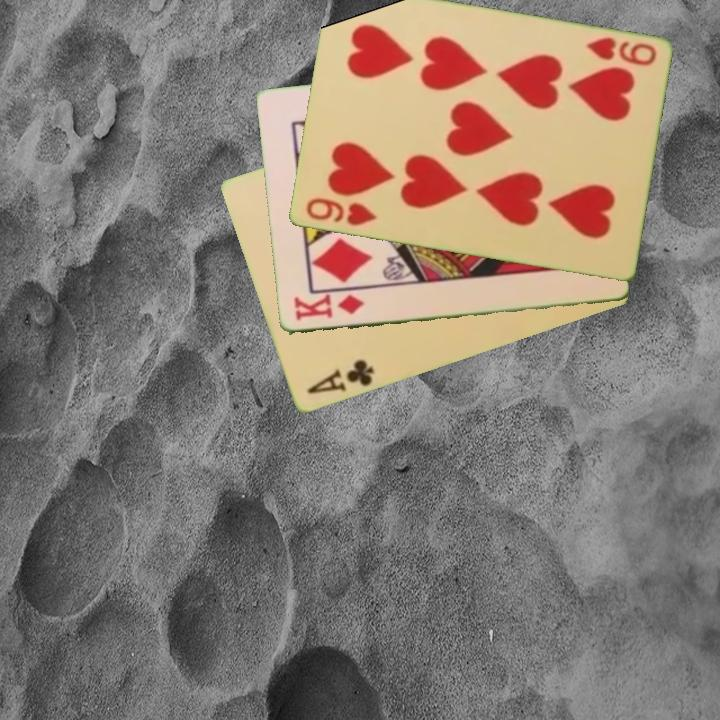9h: (302, 194, 379, 229), (582, 34, 659, 69)
Ac: (303, 356, 377, 398)
Kd: (290, 291, 367, 323)
